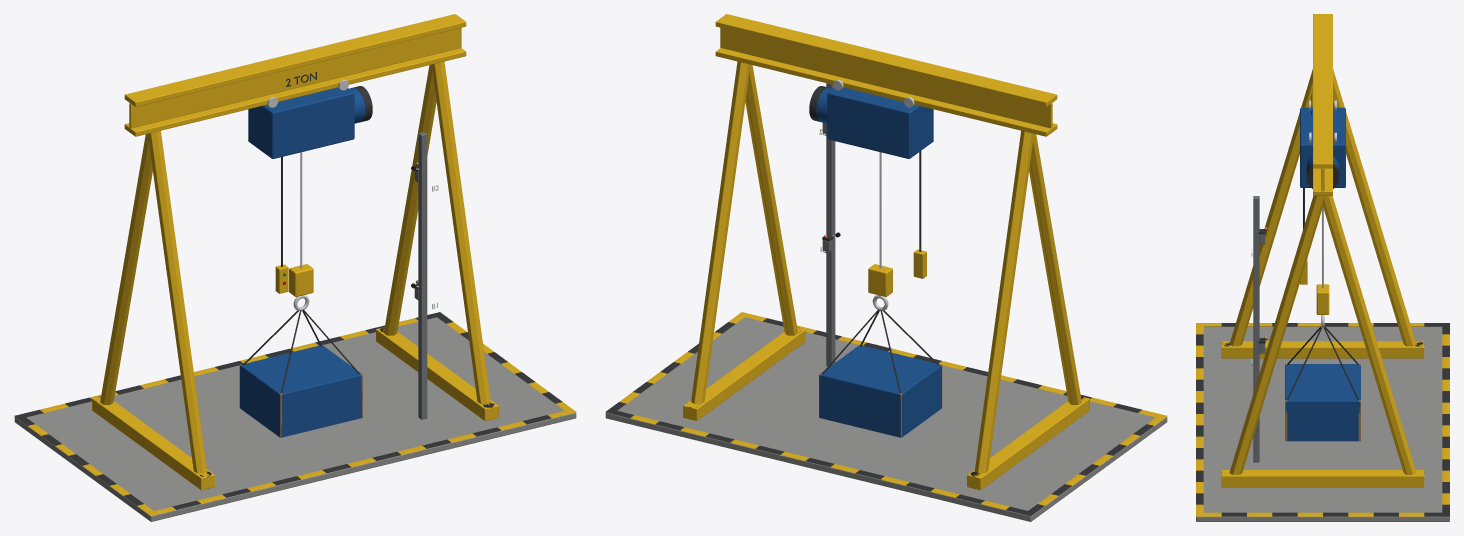
File: machine_hoist.glb
The picture shows the model from 3 angles, left to right: view 1: azimuth 30°, elevation 25°; view 2: azimuth 150°, elevation 25°; view 3: azimuth 270°, elevation 25°; orthographic projection. The views are drawn at different scales.
Parts seen in each view (by area): view 1: frame, hook_mesh; view 2: frame, hook_mesh; view 3: frame, hook_mesh.
Part boxes in pixels (x1=…): frame: x1=14, y1=14, x2=576, y2=521; hook_mesh: x1=239, y1=264, x2=362, y2=437; frame: x1=605, y1=14, x2=1167, y2=521; hook_mesh: x1=819, y1=264, x2=942, y2=437; frame: x1=1196, y1=14, x2=1449, y2=521; hook_mesh: x1=1285, y1=284, x2=1360, y2=441.
Bounding box in the file's own units: 3.6 × 2.97 × 2.
